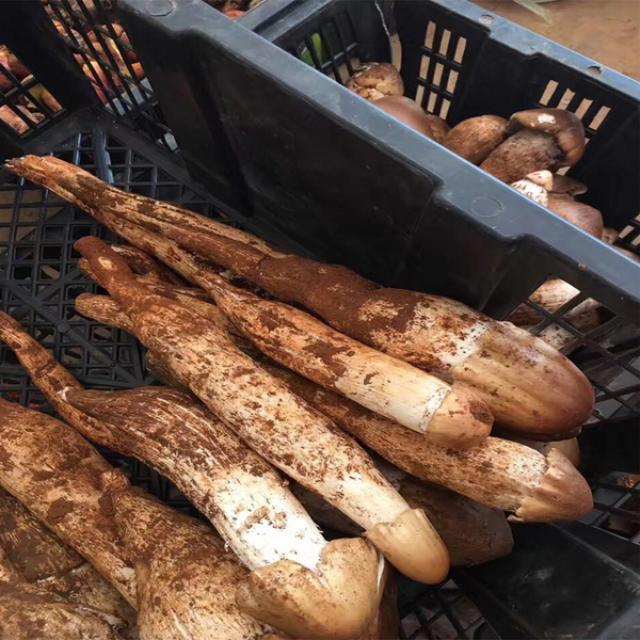Collybia albuminosa: (17, 148, 603, 427), (18, 152, 495, 439), (77, 232, 446, 576), (0, 314, 383, 631), (321, 379, 598, 520)
